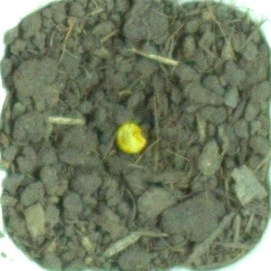pepper seed: (40, 43, 188, 198)
